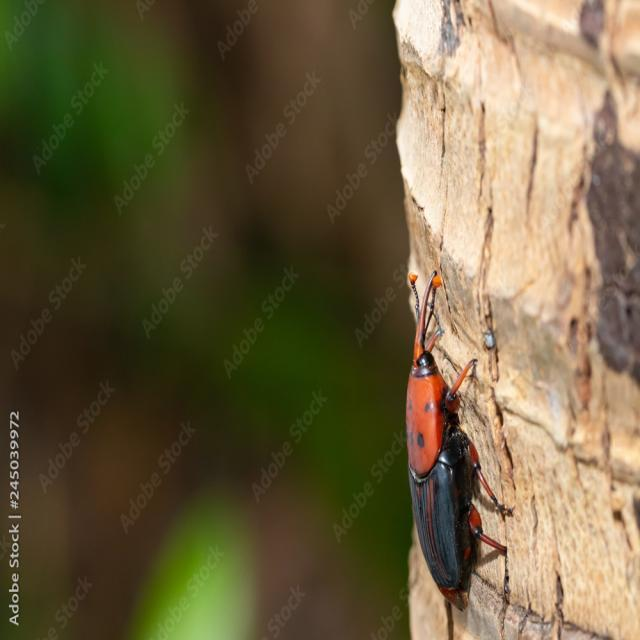Red-palm-weevil: (386, 263, 523, 640)
